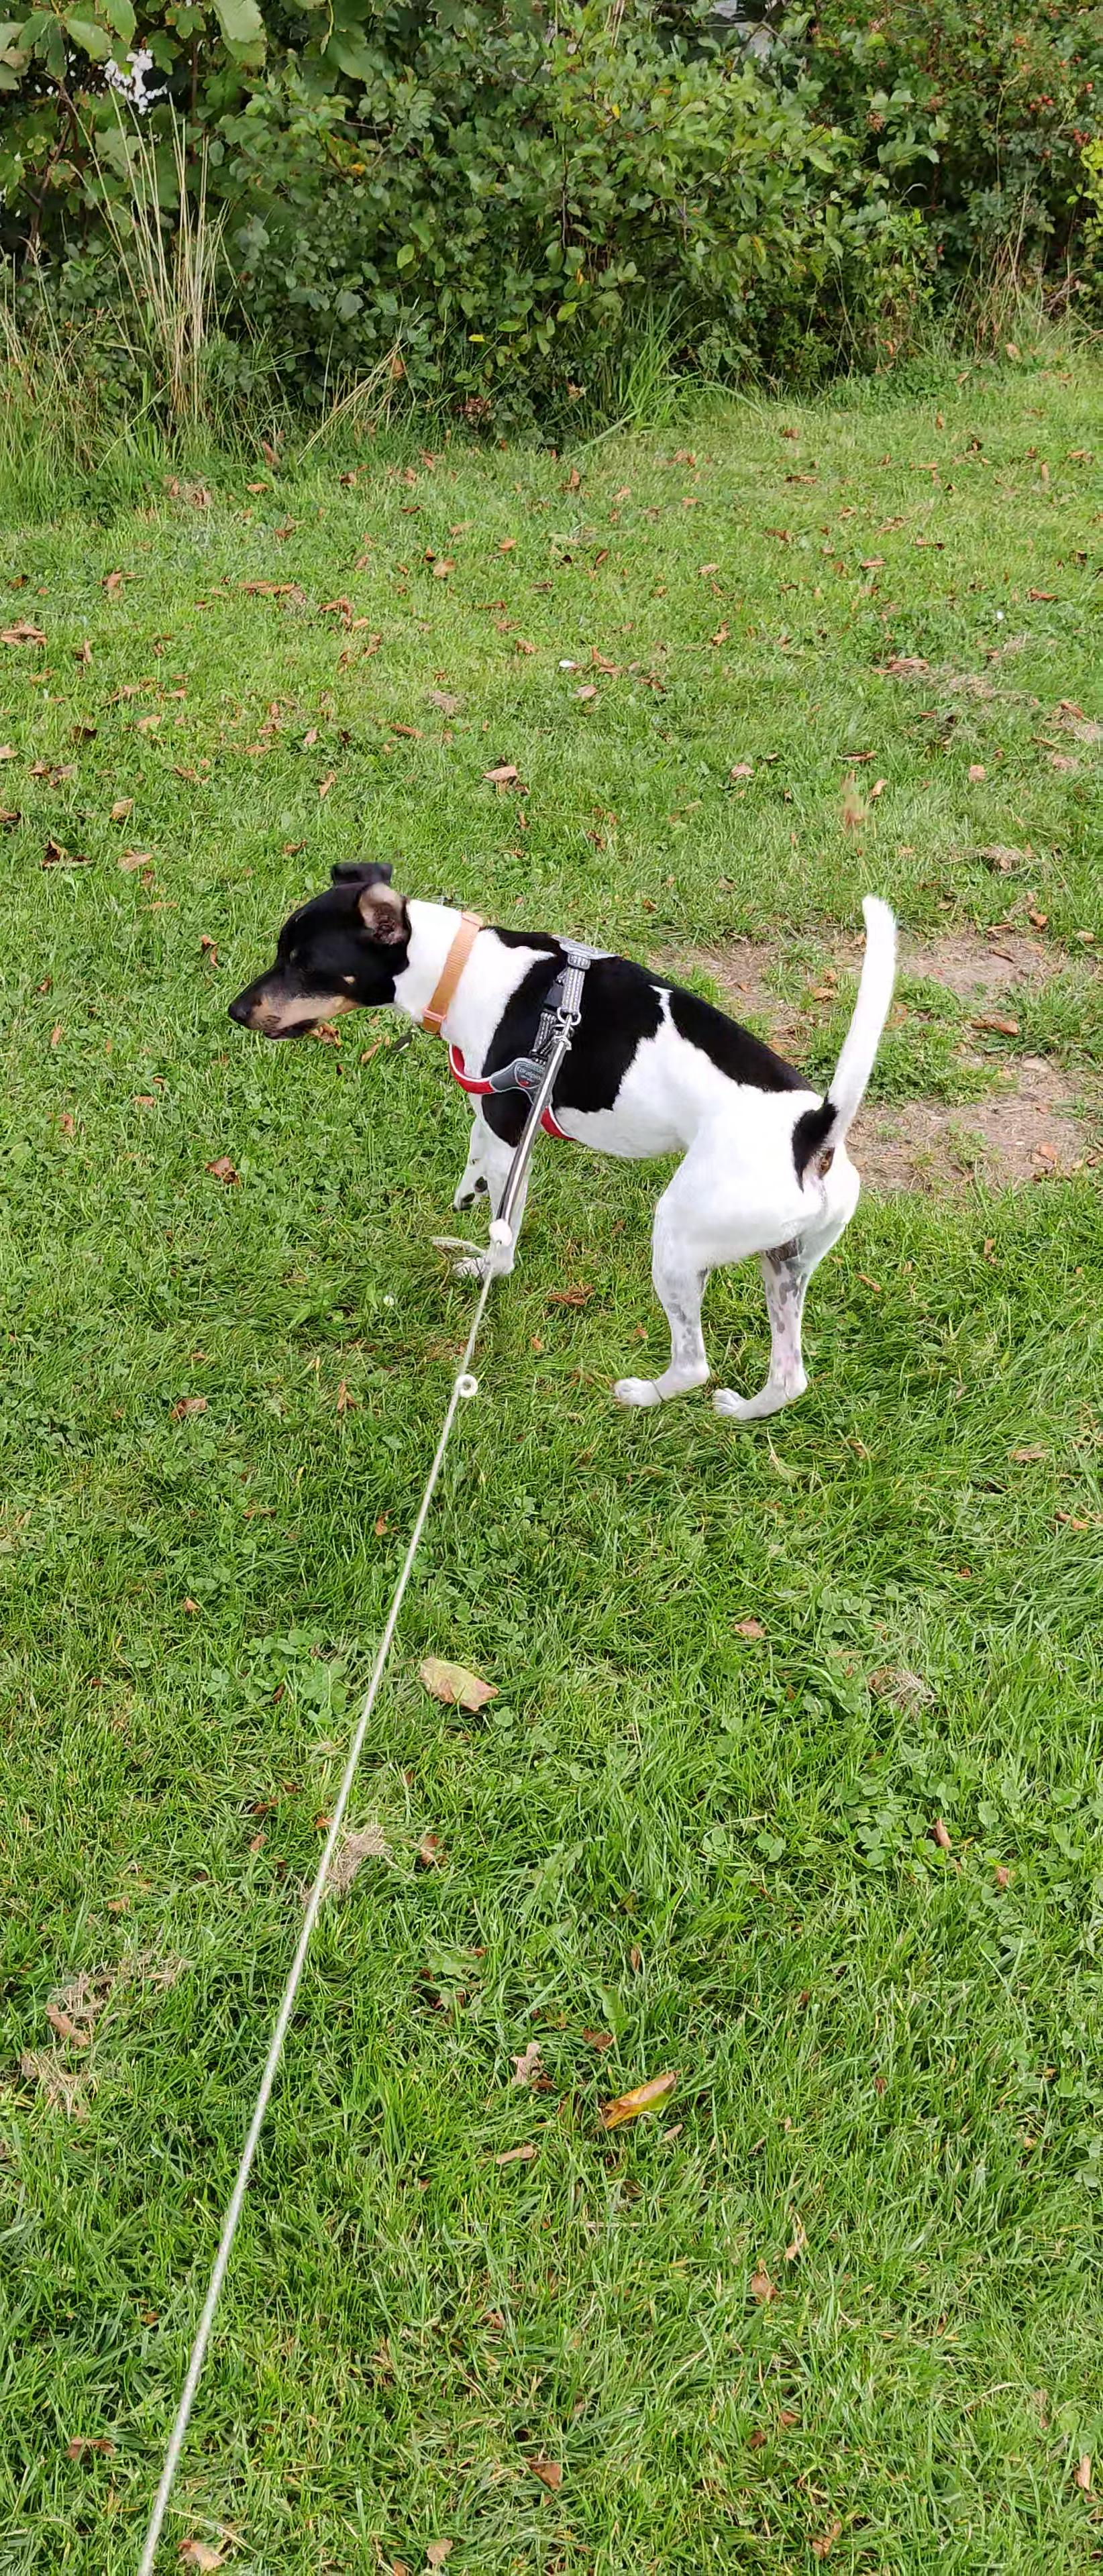Dog: (214, 833, 921, 1442)
